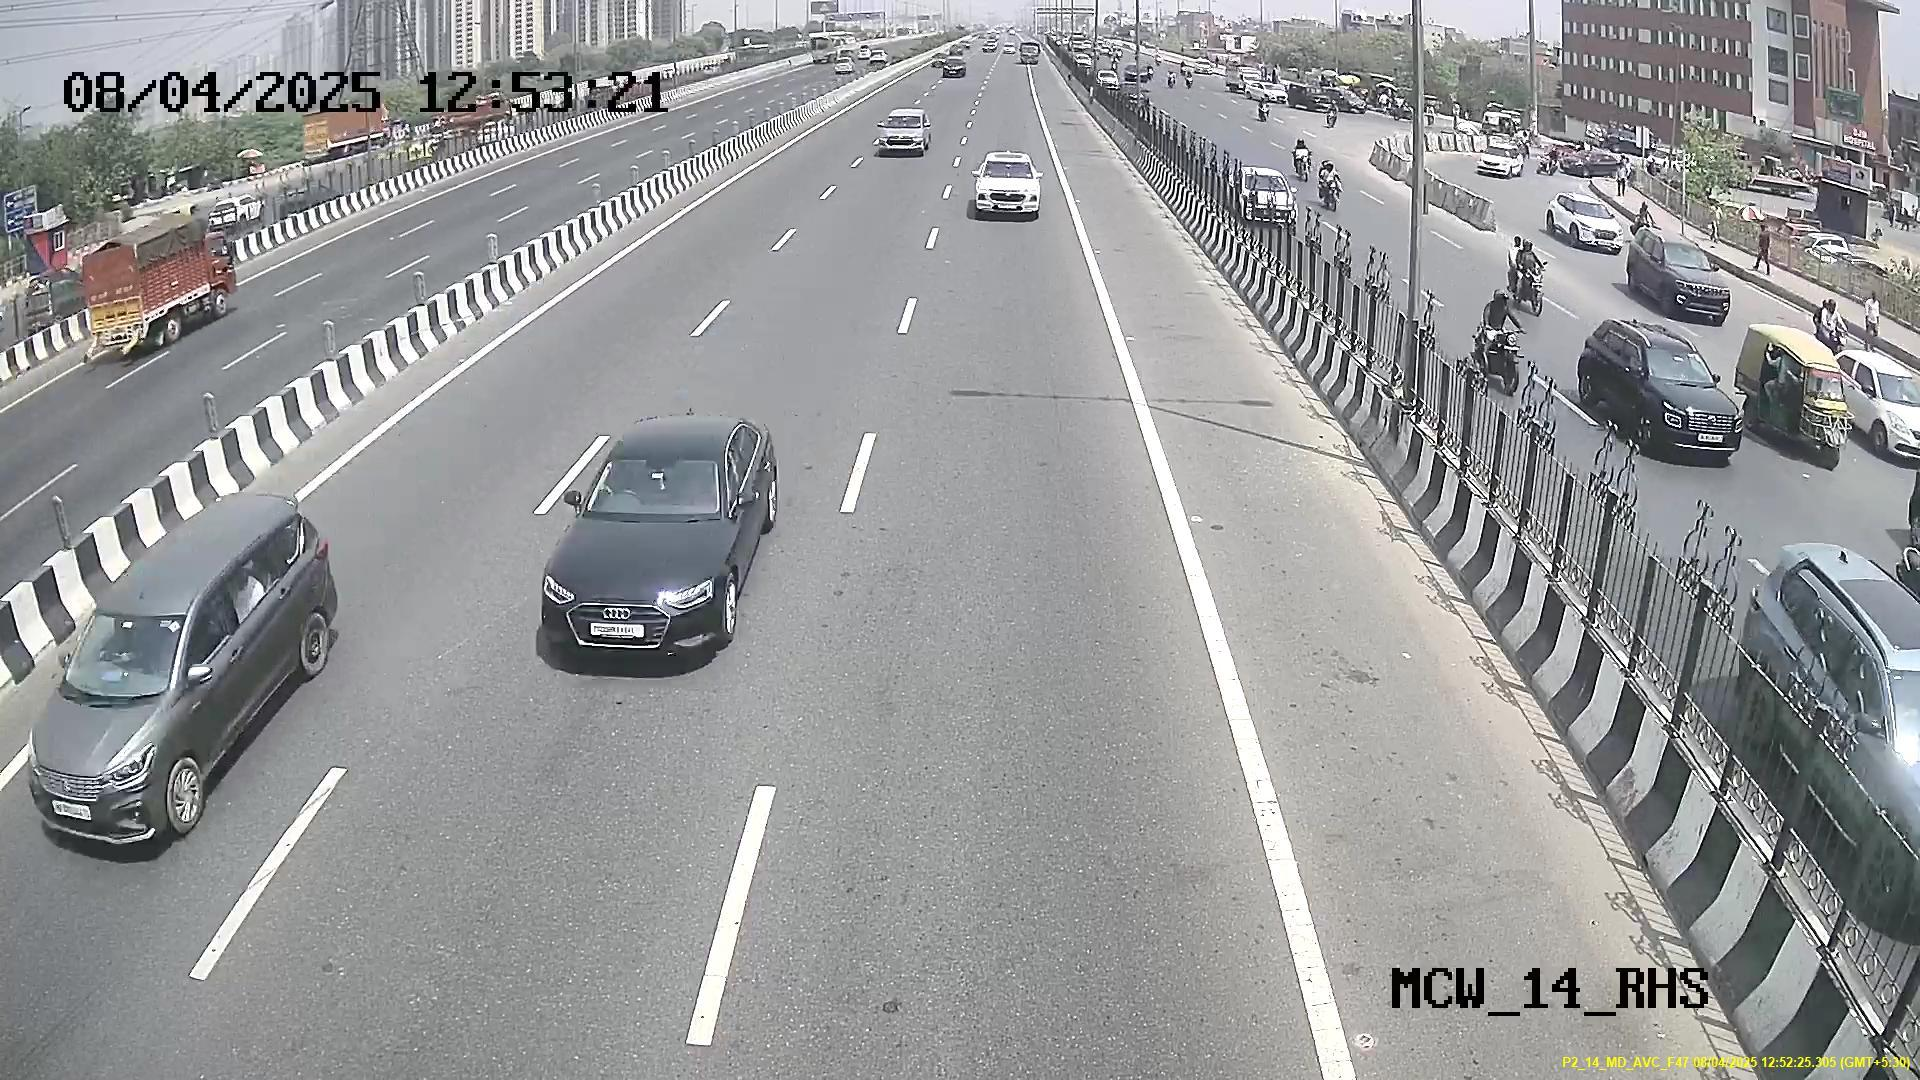car: (26, 574, 231, 851), (547, 444, 750, 667), (968, 152, 1043, 224), (870, 109, 939, 156)
